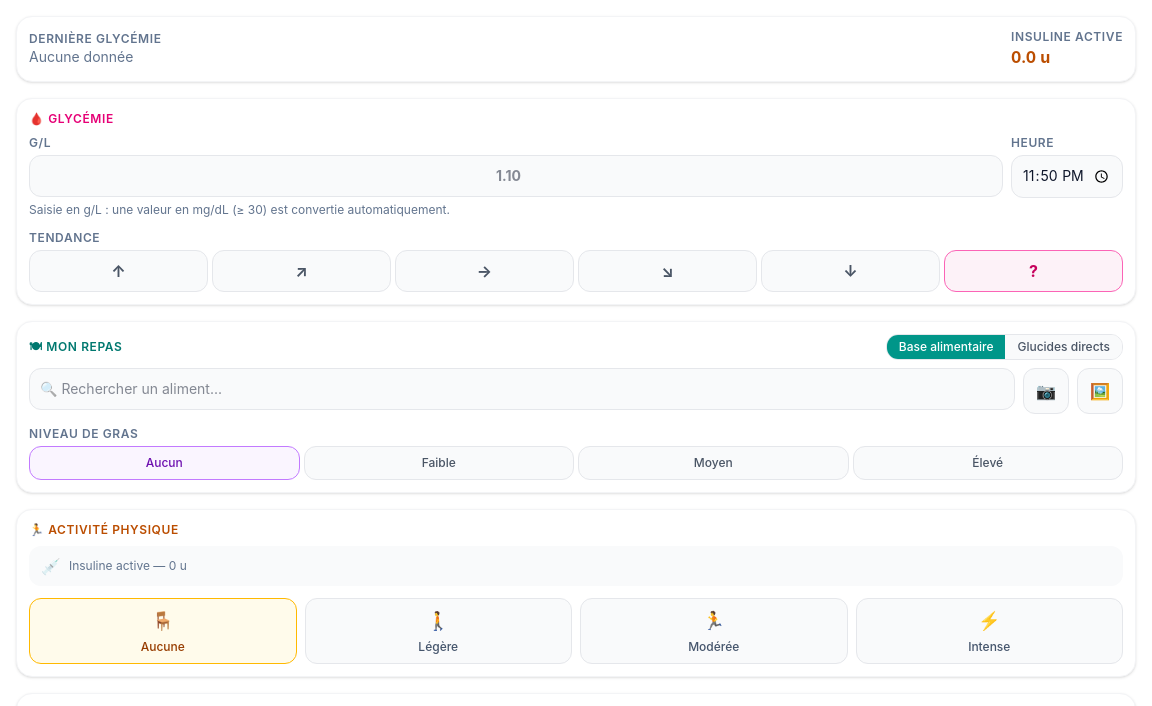
ConsultationScreen › affiche le parcours hypoglycémie sous 0,70 et journalise le resucrage
Type "0.62" into the number field with placeholder "1.10" at [516, 176], box 29,155 -> 1003,197
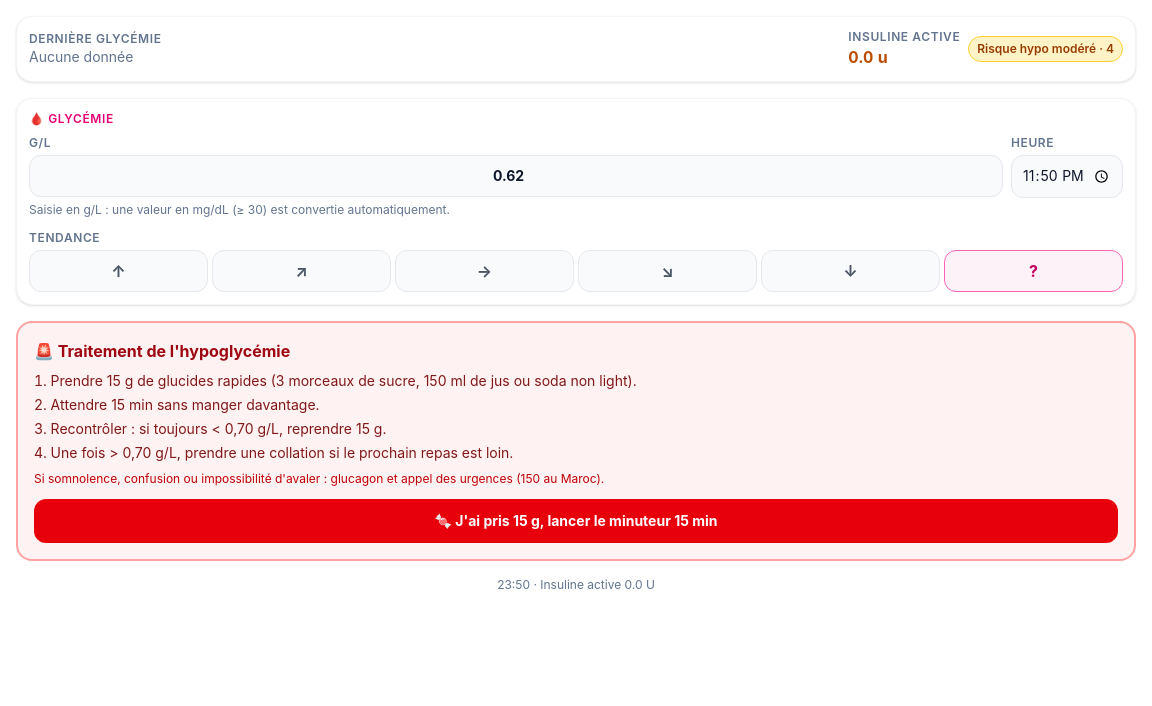
Expected: the heading "🚨 Traitement de l'hypoglycémie" is shown, 34,341 -> 290,361
Click the button "🍬 J'ai pris 15 g, lancer le minuteur 15 min" at [576, 521], box 34,499 -> 1118,543
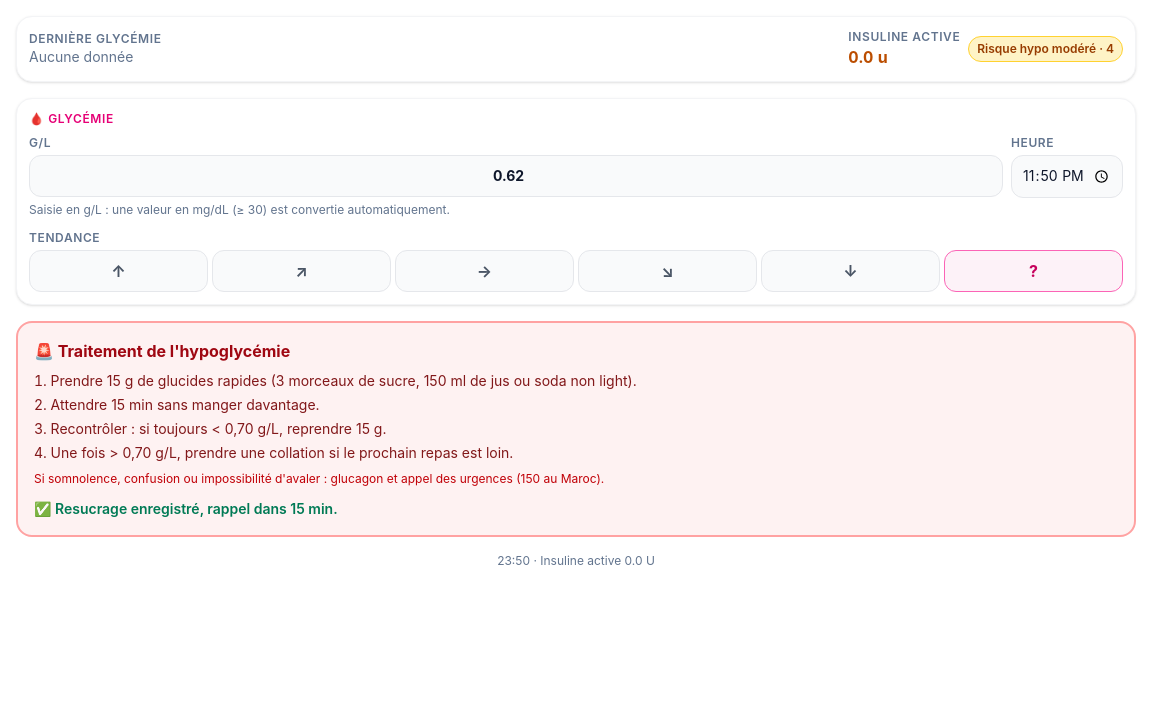
Expected: the text "✅ Resucrage enregistré, rappel dans 15 min." is shown, 34,500 -> 338,517
